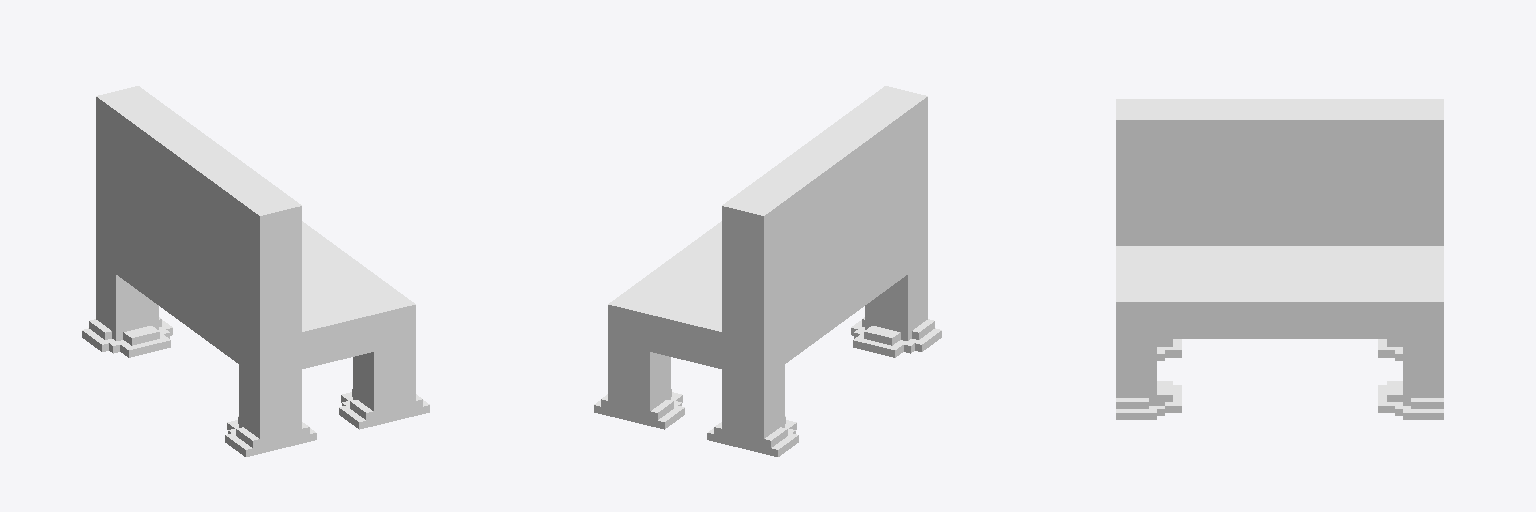
The model's file is BPW_obstacle_bench.obj.
The picture shows the model from 3 angles: view 1: azimuth 30°, elevation 25°; view 2: azimuth 150°, elevation 25°; view 3: azimuth 270°, elevation 25°; orthographic projection.
Parts seen in each view (by area): view 1: BPW_obstacle_bench; view 2: BPW_obstacle_bench; view 3: BPW_obstacle_bench.
Part boxes in pixels (x1,y1,x2,y2): BPW_obstacle_bench: (82, 86, 429, 456); BPW_obstacle_bench: (594, 86, 941, 456); BPW_obstacle_bench: (1116, 99, 1443, 419).
Bounding box in the file's own units: 26 × 32 × 40.